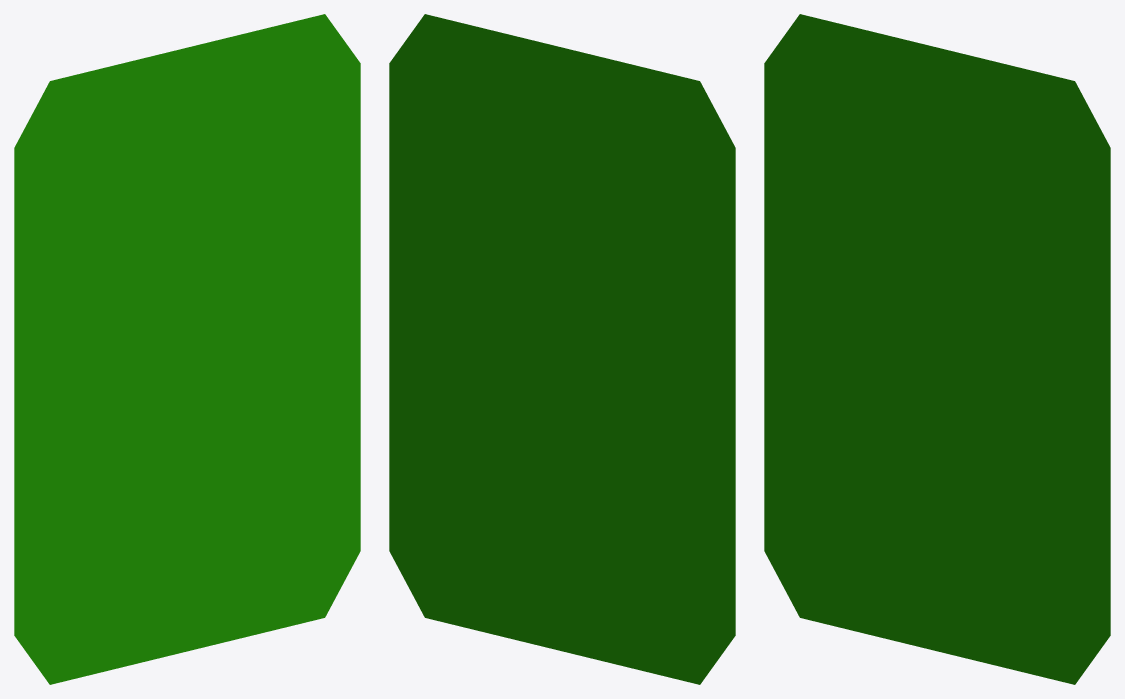
The model's file is Code_Pad_Screen.fbx.
The picture shows the model from 3 angles, left to right: view 1: azimuth 30°, elevation 25°; view 2: azimuth 150°, elevation 25°; view 3: azimuth 330°, elevation 25°; orthographic projection.
Visible parts, largest first — view 1: polySurface1; view 2: polySurface1; view 3: polySurface1.
Part boxes in pixels (left/top/right/bottom): polySurface1: left=14, top=14, right=360, bottom=684; polySurface1: left=389, top=14, right=735, bottom=684; polySurface1: left=764, top=14, right=1110, bottom=684.
Size of the model in its own units: 23.4 by 39.01 by 0.
